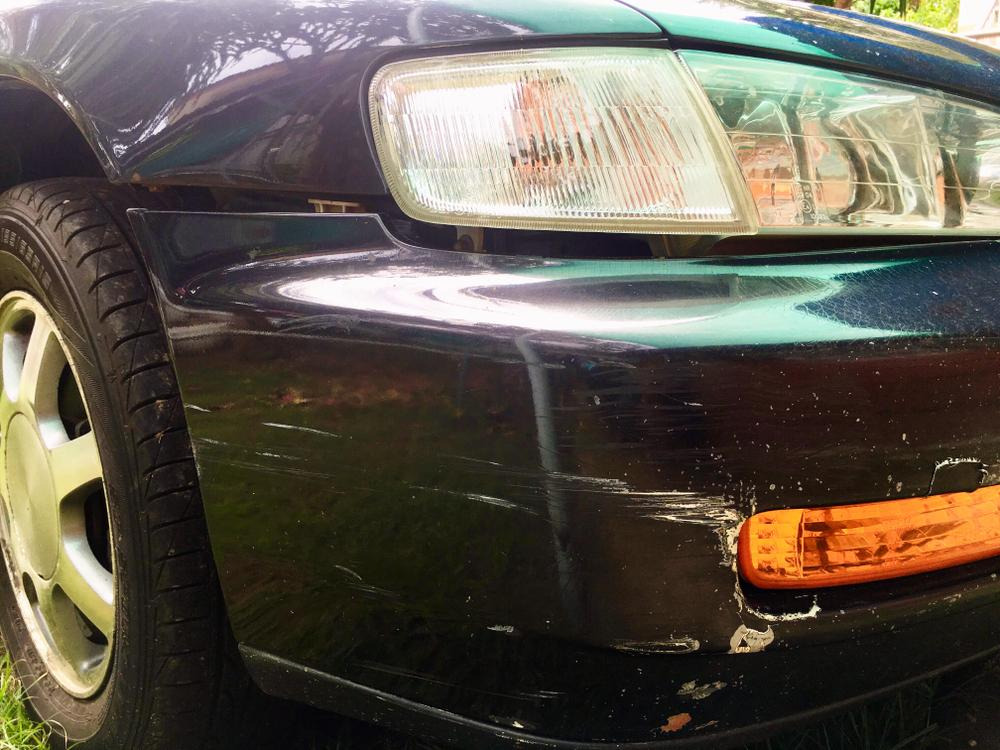scratch: (191, 400, 780, 701)
